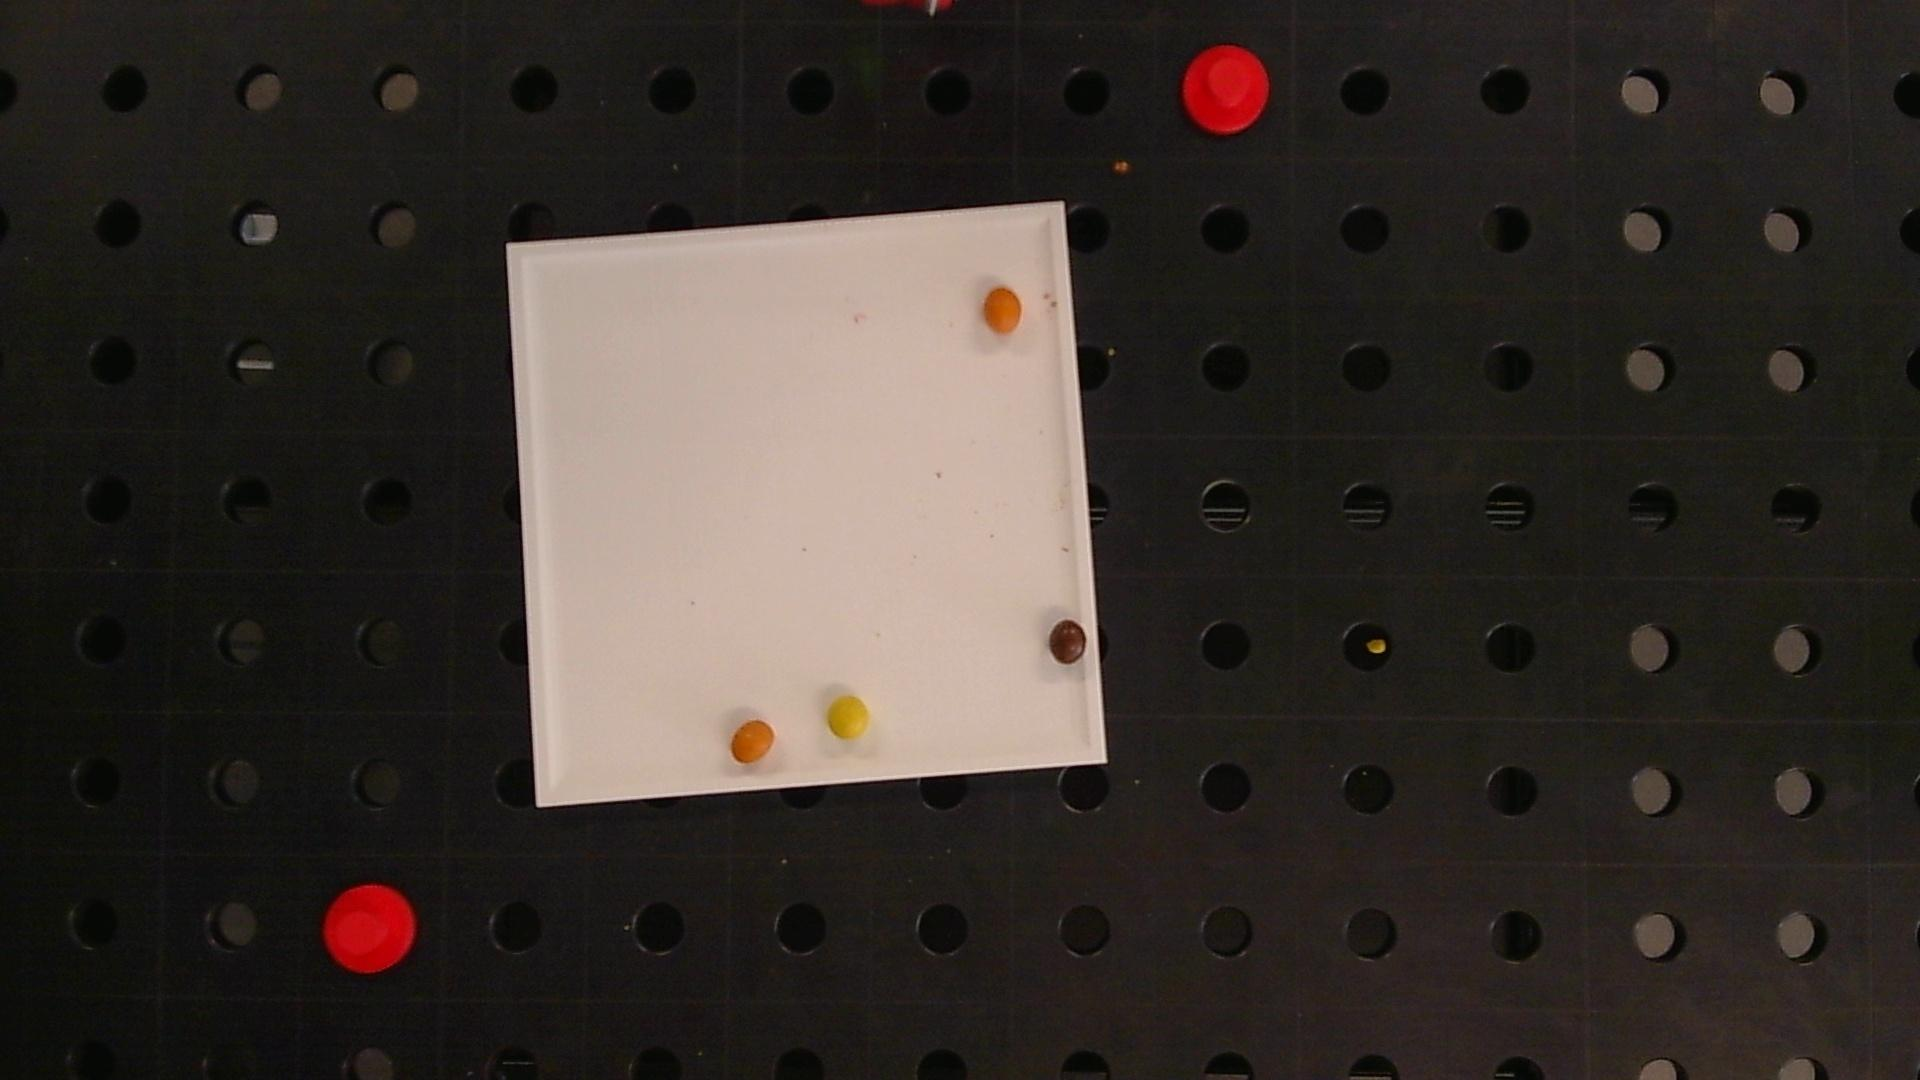brown: (1048, 618, 1088, 665)
orange: (731, 720, 775, 764), (982, 287, 1022, 334)
yellow: (827, 696, 869, 738)
